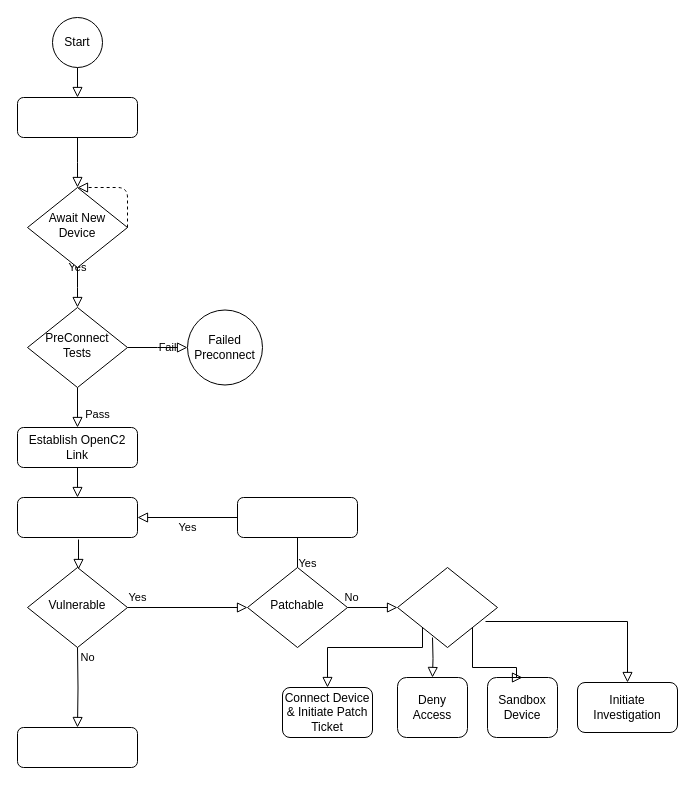
Some shapes in this 695 by 785 pixel diagram are drawn without their labels. The box of each missing label's shape, as (x1, y1, x2, y2) in pixels:
Connect Device: (16, 726, 138, 768)
Obtain current SBOM: (16, 496, 138, 538)
Patch Device: (236, 496, 358, 538)
Risk Mitigation Decision: (396, 566, 498, 648)
Setup: (16, 96, 138, 138)
